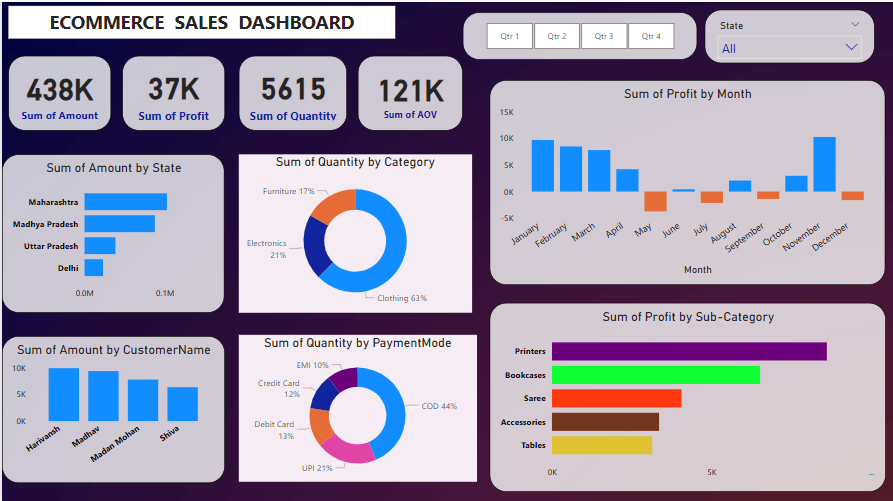

This screenshot's page, from the dashboard's own definition file:
{"tool":"powerbi","page":{"name":"Page 1","canvas":[1280,720],"ordinal":0},"visuals":[{"type":"textbox","box":[10,5,553.3,46.7],"z":0},{"type":"columnChart","fields":{"Y":["Details.Profit"],"Category":["Orders.Order Date.Variation.Date Hierarchy.Month"]},"box":[697.3,111.6,565.5,292.8],"z":1000},{"type":"barChart","fields":{"Category":["Details.Sub-Category"],"Y":["Details.Profit"]},"box":[696.7,430,566.7,270],"z":2000},{"type":"donutChart","fields":{"Category":["Details.Category"],"Y":["Details.Quantity"]},"box":[338.3,218.3,333.3,226.7],"z":3000},{"type":"donutChart","fields":{"Y":["Details.Quantity"],"Category":["Details.PaymentMode"]},"box":[338.6,475.8,340.4,210.5],"z":4000},{"type":"card","fields":{"Values":["Details.Quantity"]},"box":[338.3,76.7,155,106.7],"z":5000},{"type":"card","fields":{"Values":["Details.Profit"]},"box":[171.7,76.7,146.7,106.7],"z":6000},{"type":"card","fields":{"Values":["Details.AOV"]},"box":[508.3,76.7,150,106.7],"z":7000},{"type":"card","fields":{"Values":["Details.Amount"]},"box":[10,76.7,146.7,106.7],"z":8000},{"type":"barChart","fields":{"Category":["Orders.State"],"Y":["Details.Amount"]},"box":[0,218.3,318.3,226.7],"z":9000},{"type":"columnChart","fields":{"Category":["Orders.CustomerName"],"Y":["Details.Amount"]},"box":[0,477.7,318.4,210.5],"z":10000},{"type":"slicer","fields":{"Values":["Orders.Order Date.Variation.Date Hierarchy.Quarter"]},"box":[658.3,15,335,68.3],"z":10001},{"type":"slicer","fields":{"Values":["Orders.State"]},"box":[1005,11.7,243.3,76.7],"z":10002}]}

Visuals, with their boxes in screenshot pixels (x1, y1, x2, y2), scaled from the page's 1280x720 canvas onto the 893x501 screenshot:
textbox: [left=7, top=3, right=393, bottom=36]
columnChart - Details.Profit x Orders.Order Date.Variation.Date Hierarchy.Month: [left=486, top=78, right=881, bottom=281]
barChart - Details.Sub-Category x Details.Profit: [left=486, top=299, right=881, bottom=487]
donutChart - Details.Category x Details.Quantity: [left=236, top=152, right=469, bottom=310]
donutChart - Details.Quantity x Details.PaymentMode: [left=236, top=331, right=474, bottom=478]
card - Details.Quantity: [left=236, top=53, right=344, bottom=128]
card - Details.Profit: [left=120, top=53, right=222, bottom=128]
card - Details.AOV: [left=355, top=53, right=459, bottom=128]
card - Details.Amount: [left=7, top=53, right=109, bottom=128]
barChart - Orders.State x Details.Amount: [left=0, top=152, right=222, bottom=310]
columnChart - Orders.CustomerName x Details.Amount: [left=0, top=332, right=222, bottom=479]
slicer - Orders.Order Date.Variation.Date Hierarchy.Quarter: [left=459, top=10, right=693, bottom=58]
slicer - Orders.State: [left=701, top=8, right=871, bottom=62]
